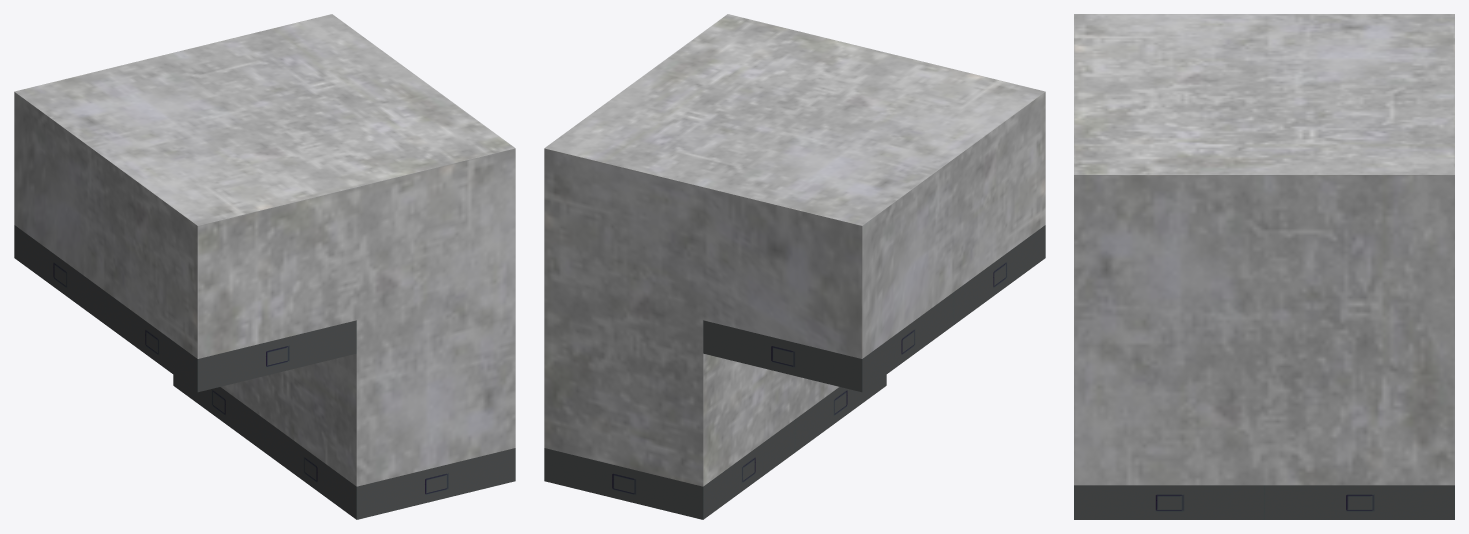
Rendered from tiles_stairs.glb.
3 views of the same model, side by side, from view 1: azimuth 30°, elevation 25°; view 2: azimuth 150°, elevation 25°; view 3: azimuth 270°, elevation 25° (orthographic). The views are drawn at different scales.
Visible parts, largest first — view 1: Roof.001; view 2: Roof.001; view 3: Roof.001.
Part boxes in pixels (<box>): Roof.001: <box>14,14,515,519</box>; Roof.001: <box>544,14,1045,519</box>; Roof.001: <box>1074,14,1454,519</box>.
Size of the model in its own units: 2 by 2 by 2.
Materials: 2 (2 with a texture image).
